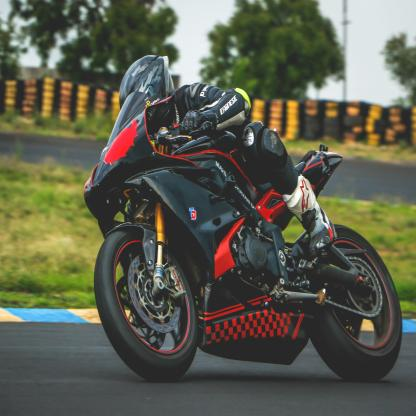bike: (87, 109, 407, 386)
